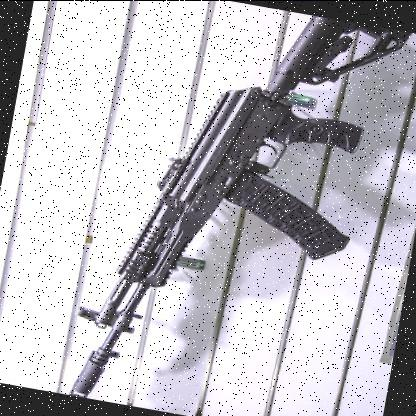rifle: (38, 0, 416, 416)
